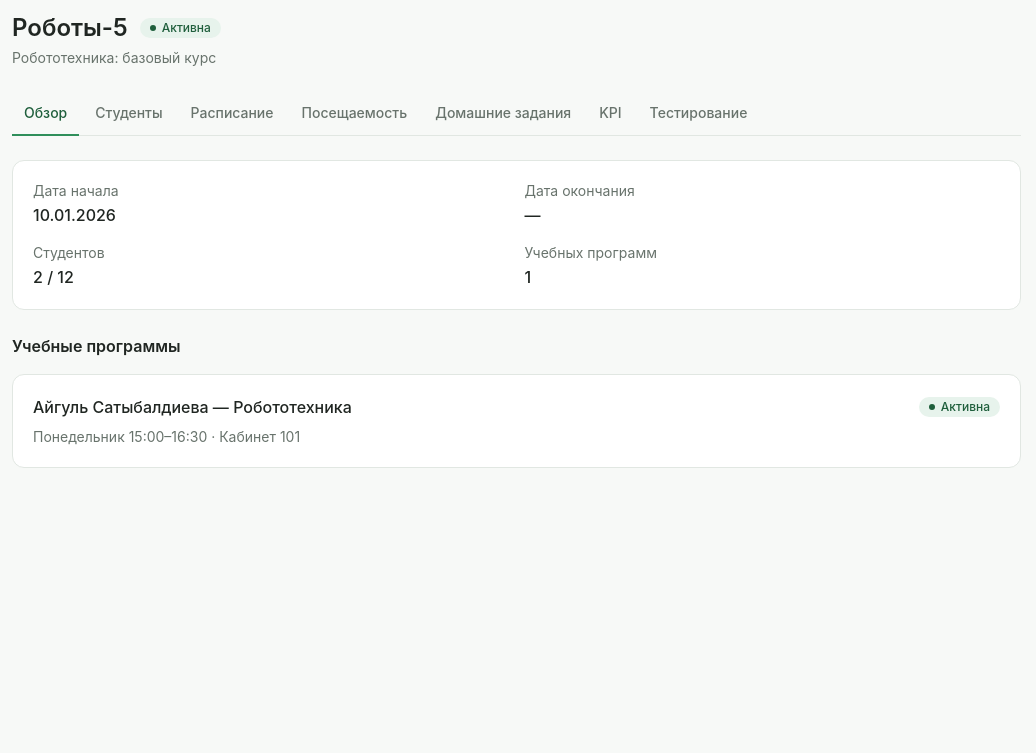
«Прогресс студентов» in the group KPI › opens a student’s lessons, homework and tests of the period
Expected: the heading "Роботы-5" is shown, [12,12,128,44]
Click the tab "KPI": (610, 114) [587,92,634,136]
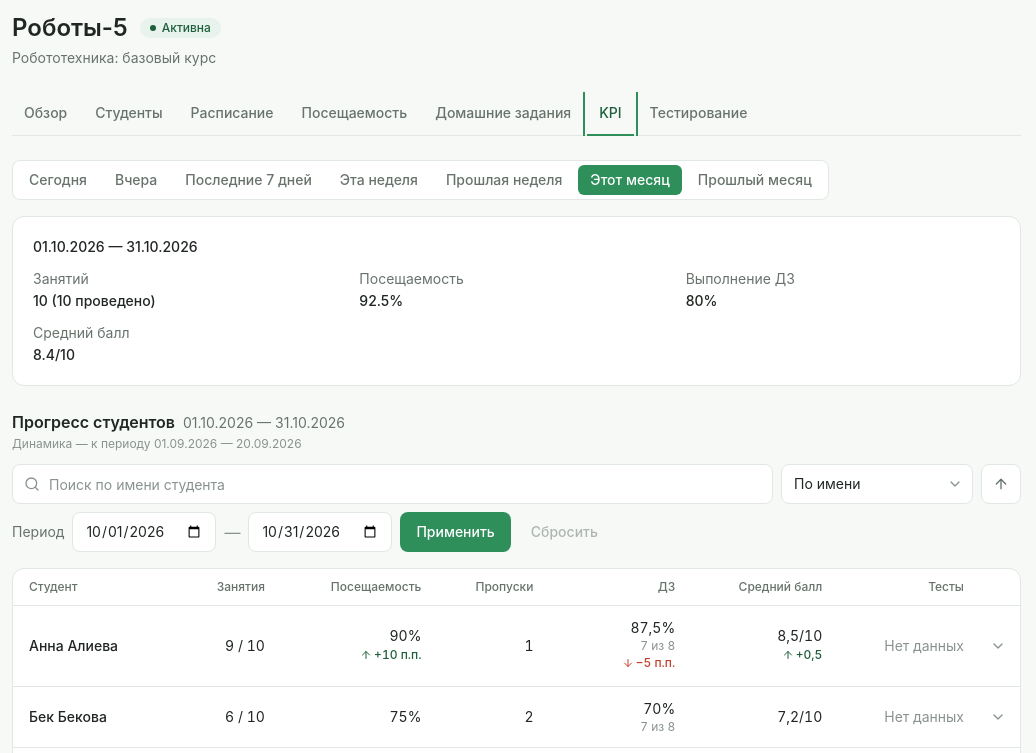
Expected: the heading "Прогресс студентов01.10.2026 — 31.10.2026" is shown, [12,412,345,432]
Click the row with test id "progress-row-1": (516, 646) [13,606,1020,686]
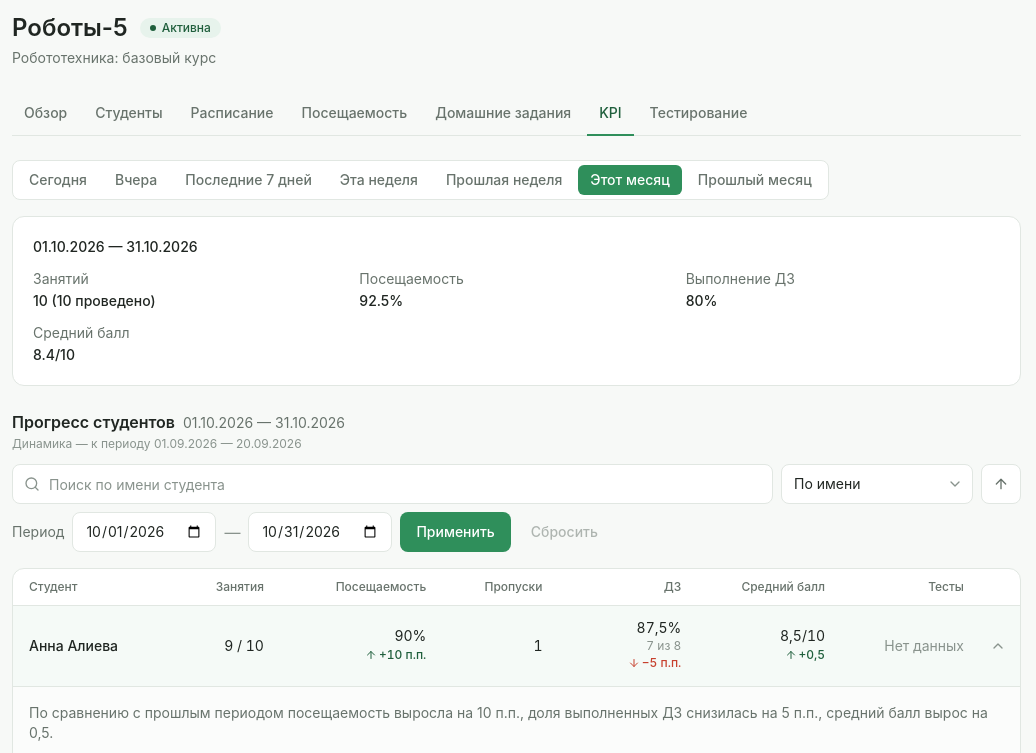
Expected: the text "посещаемость выросла на 10 п.п." is shown, [29,704,988,741]
